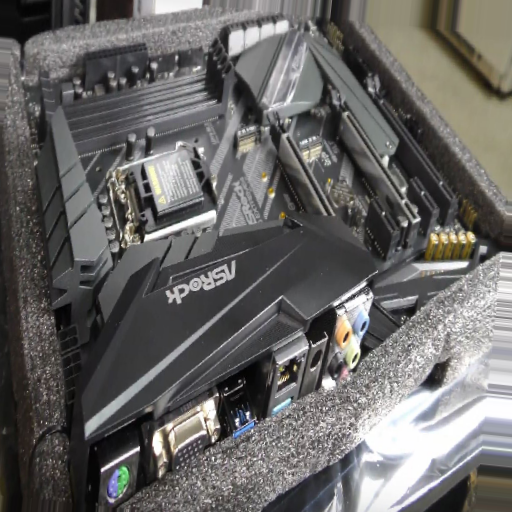CPU: (114, 153, 223, 228)
GPU: (363, 72, 458, 222), (327, 91, 419, 228), (271, 115, 337, 223)
MOTHERBOARD: (10, 20, 505, 482)
RAM: (32, 42, 238, 130)
SSD: (297, 134, 335, 163), (236, 124, 274, 148)
